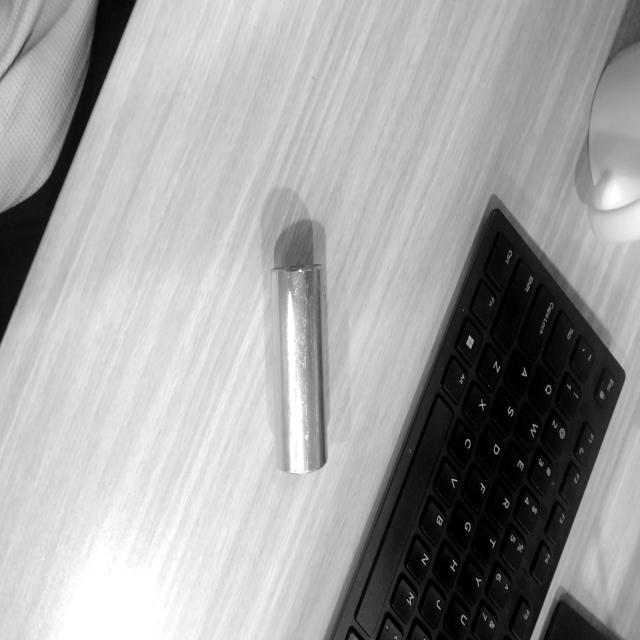Co_Lon: (271, 265, 326, 474)
